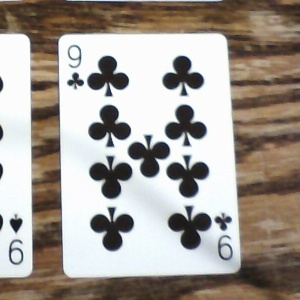card: (56, 32, 243, 278)
